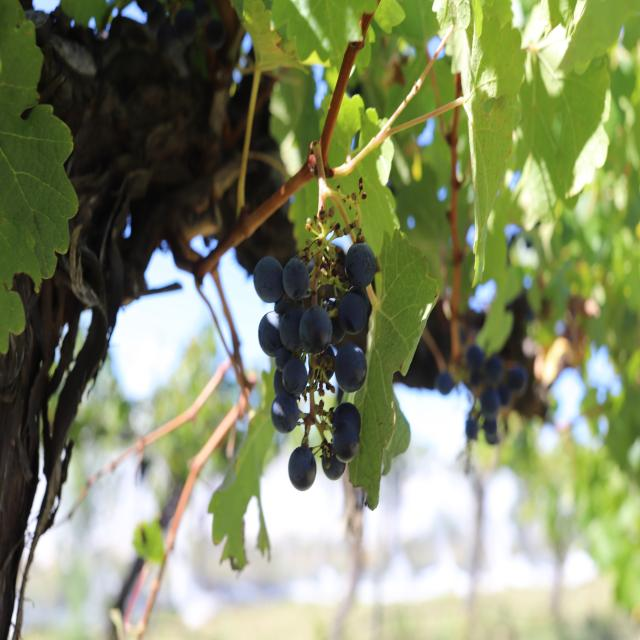grapes: (254, 211, 376, 490), (465, 344, 528, 444)
